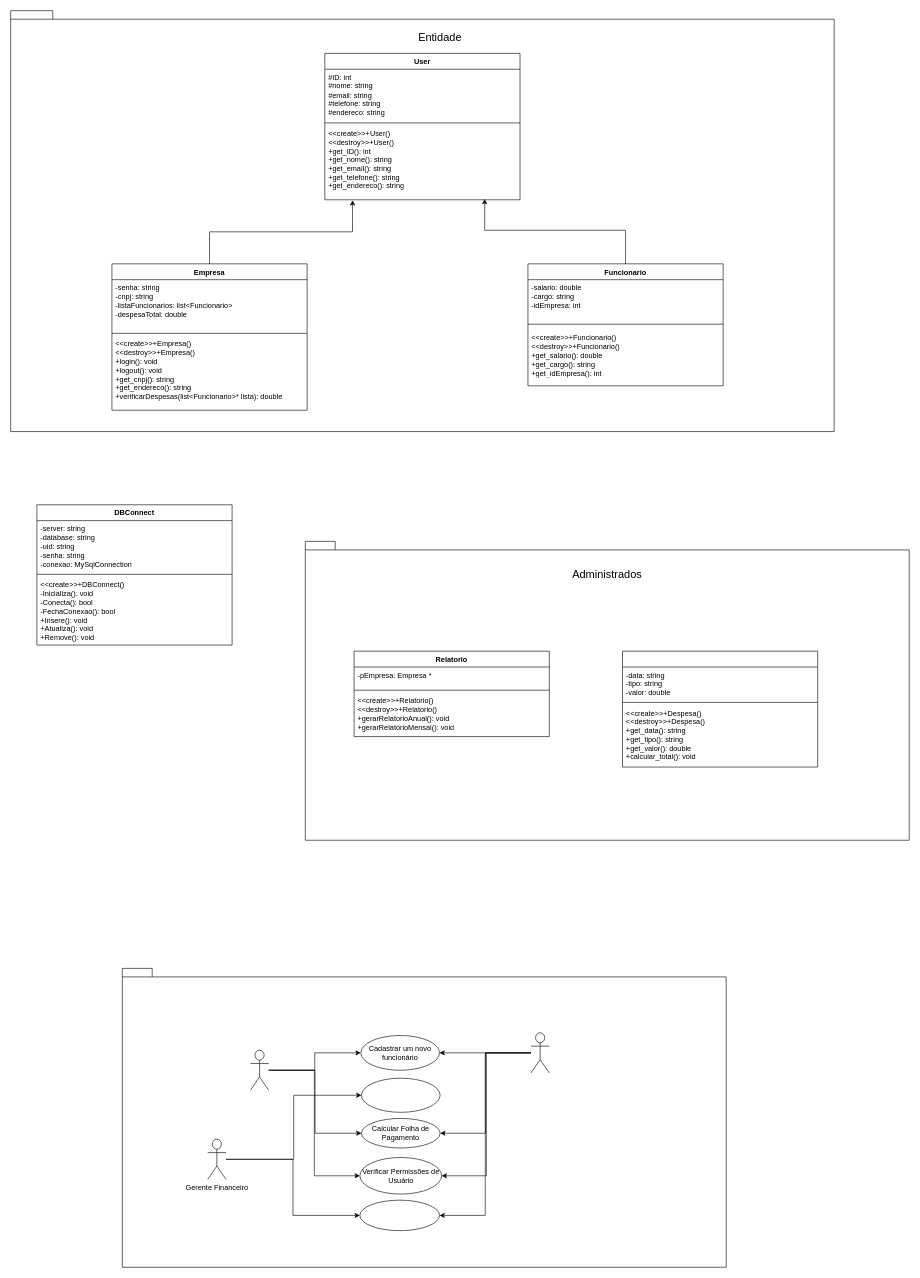
This 920x1278 diagram has some shape labels left out. Each missing label, with the box of its shape:
Administrador: (250, 1050, 269, 1090)
Consultar Histórico Financeiro: (359, 1200, 440, 1231)
Funcionário: (530, 1032, 549, 1073)
Gerar Relatório Financeiro Mensal: (361, 1078, 440, 1112)
Movimentacao: (622, 651, 818, 767)
